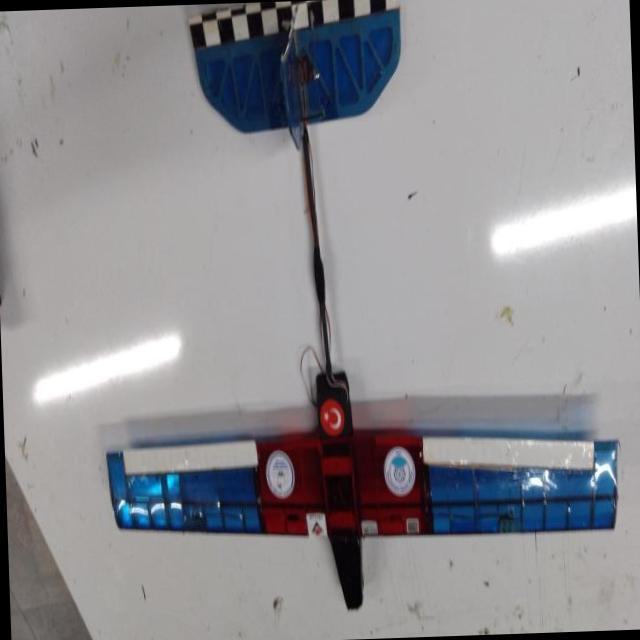UAV: (12, 0, 619, 622)
